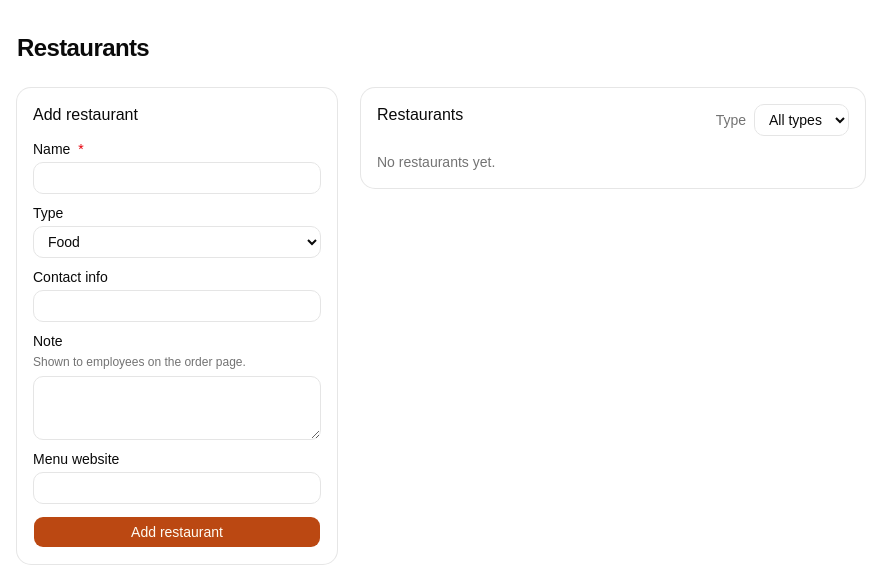
Restaurants › shows the API's error message as a toast when creating a restaurant fails with a known error
Expected: the text "No restaurants yet." is shown, [377,154,495,170]
Type "Sushi Spot" into the field labelled "Name" at coordinates (177, 178), box [33,162,321,194]
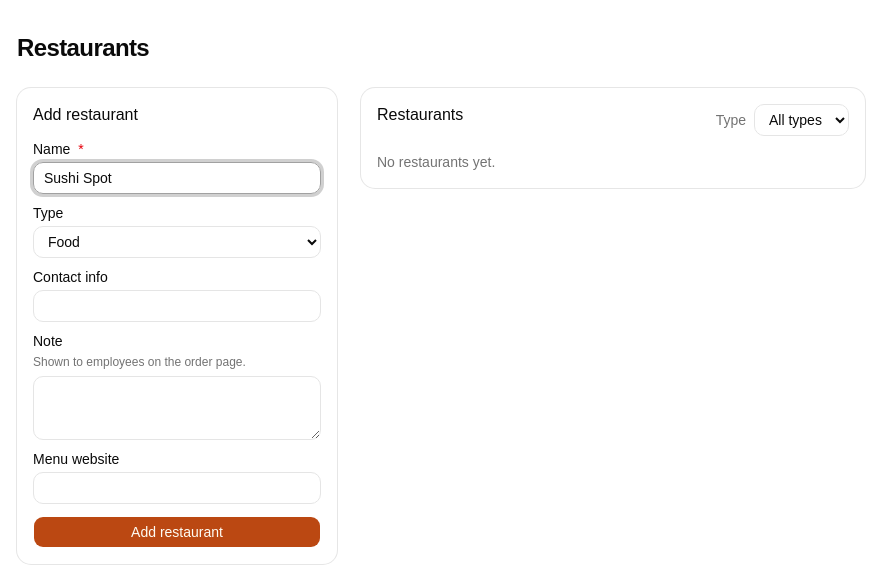
Click the button "Add restaurant" at coordinates (177, 532), box [33,516,321,548]
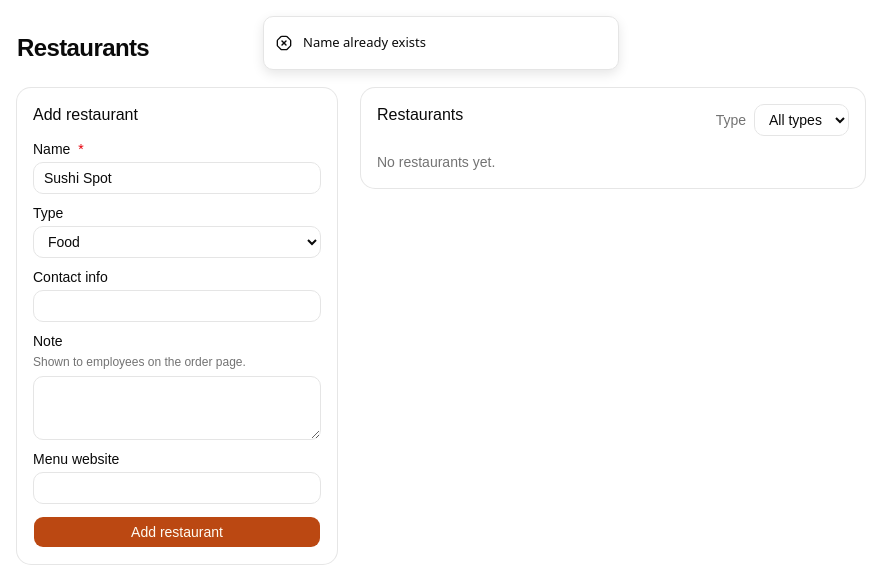
Now the text "Name already exists" is shown, box [303,33,426,52]
